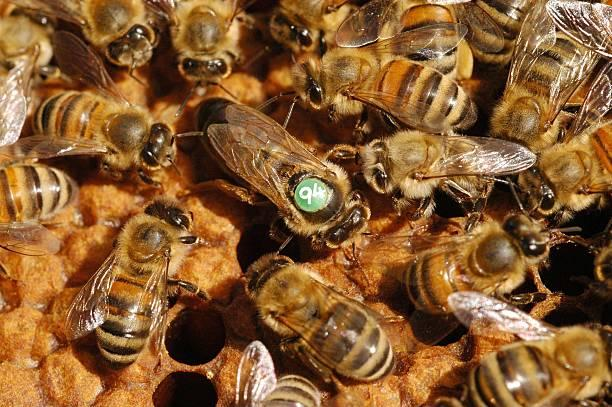Queen-Bee: (190, 98, 370, 248)
worker-bee: (15, 31, 175, 186), (362, 214, 550, 342), (65, 198, 207, 366), (245, 253, 400, 385), (292, 23, 477, 132), (333, 130, 535, 229), (490, 0, 596, 150), (517, 61, 611, 222)
